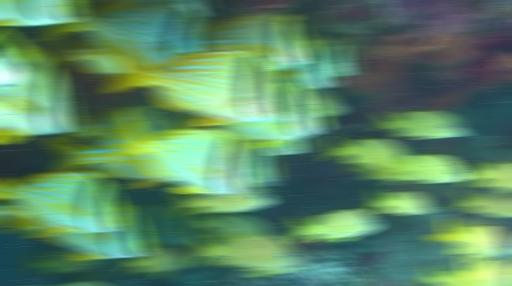Fish: (104, 40, 285, 125), (113, 110, 252, 193), (42, 1, 209, 65), (43, 126, 175, 188), (0, 173, 125, 232), (215, 83, 328, 147), (27, 206, 152, 260), (0, 51, 78, 137), (205, 12, 314, 70), (186, 235, 301, 272), (427, 217, 506, 261), (271, 41, 340, 91), (288, 209, 379, 243), (50, 37, 127, 75), (172, 188, 273, 216), (126, 203, 193, 245), (322, 136, 409, 167), (372, 111, 467, 139), (380, 155, 467, 184), (60, 108, 126, 142), (186, 211, 271, 237), (119, 247, 190, 278), (22, 248, 105, 274), (0, 0, 83, 25), (234, 140, 279, 186), (309, 37, 358, 77), (0, 38, 39, 83), (367, 189, 432, 215), (0, 39, 37, 84), (453, 189, 511, 217), (461, 161, 511, 192), (457, 256, 508, 285), (0, 203, 49, 232), (345, 164, 410, 184), (307, 91, 344, 117), (420, 264, 465, 285), (264, 138, 310, 155), (187, 0, 213, 17), (76, 281, 103, 285), (508, 266, 511, 285)
